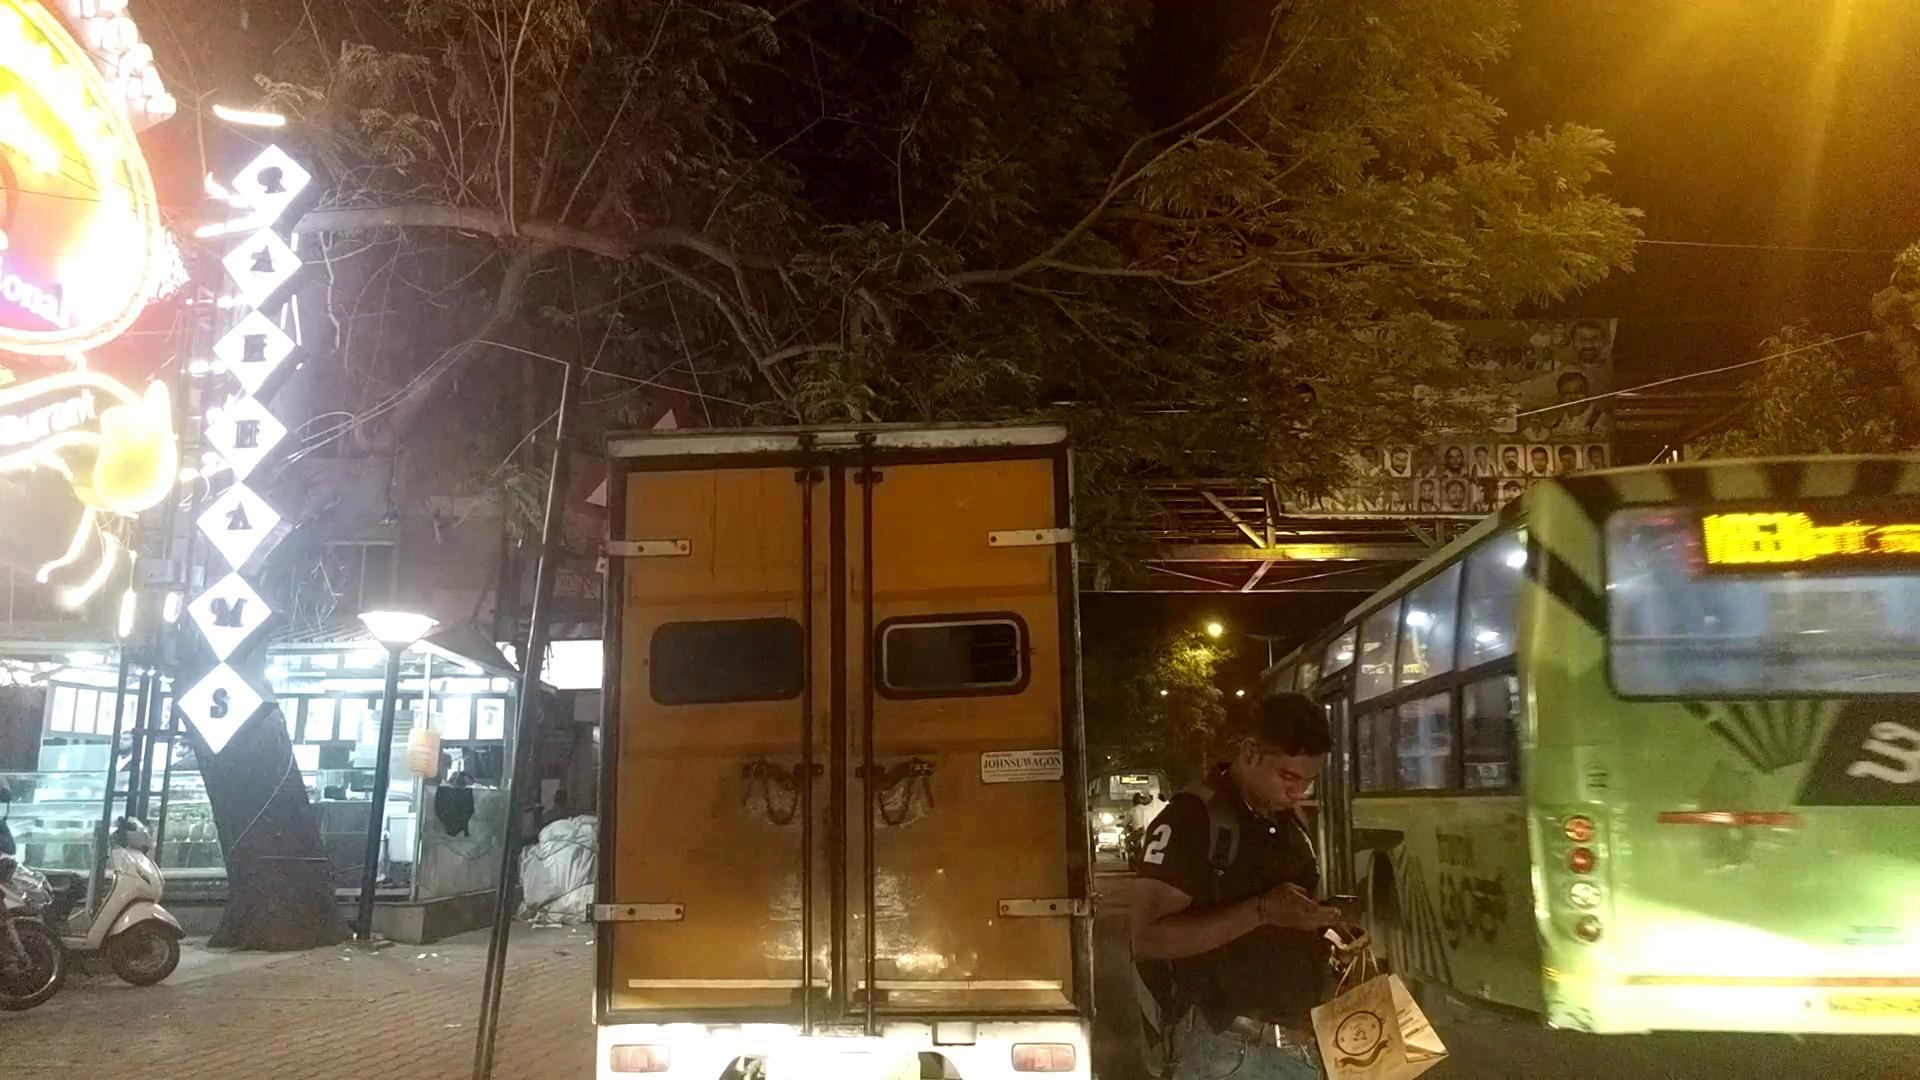on: (50, 0, 1920, 915)
